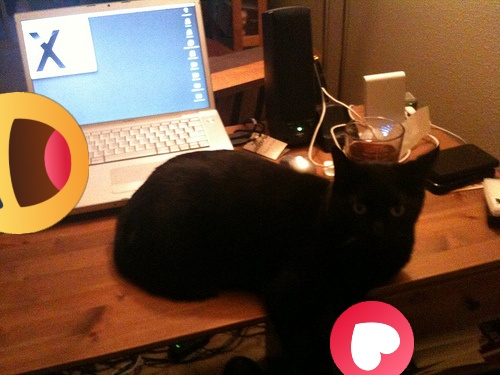haha: (0, 92, 89, 234)
love: (330, 301, 414, 375)
